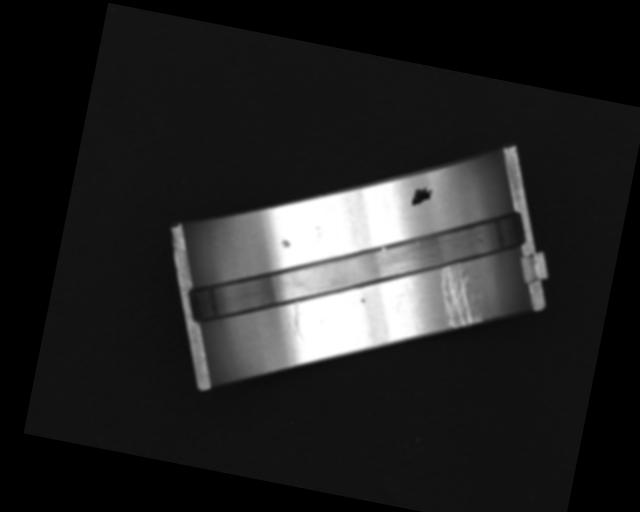blot: (409, 185, 434, 210)
bruise: (280, 239, 291, 248), (361, 296, 366, 303)
gap: (182, 153, 527, 381)
nick: (286, 300, 312, 345)
scratch: (432, 263, 491, 332)
